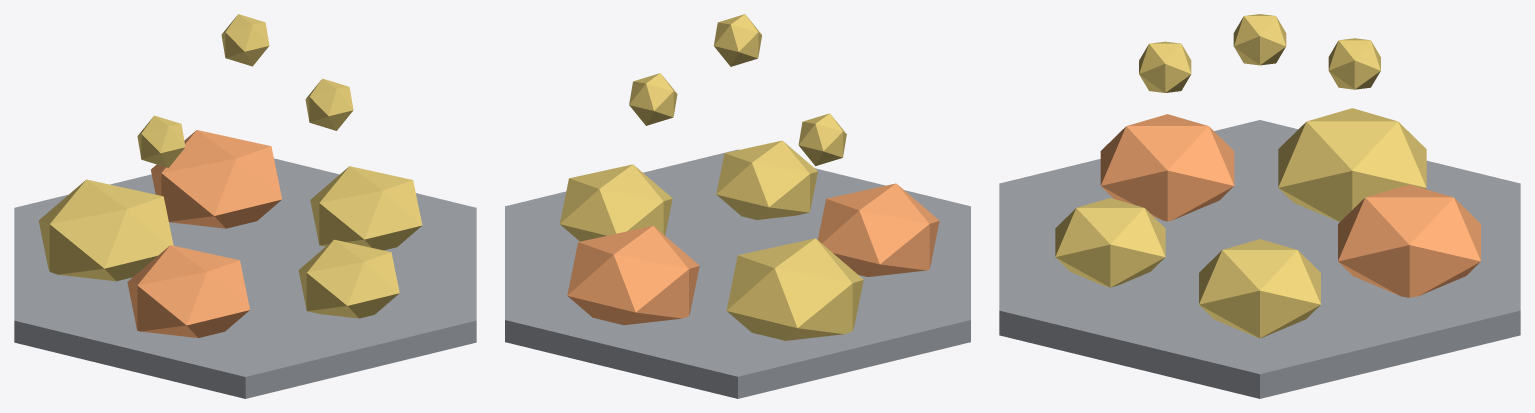
The model's file is animprop_campfire_ember_04.glb.
3 views of the same model, side by side, from view 1: azimuth 30°, elevation 25°; view 2: azimuth 150°, elevation 25°; view 3: azimuth 270°, elevation 25° (orthographic). The views are drawn at different scales.
Parts seen in each view (by area): view 1: animprop; view 2: animprop; view 3: animprop.
Boxes of the visible parts, bbox=[...] form: animprop: bbox=[14, 14, 476, 398]; animprop: bbox=[505, 14, 970, 398]; animprop: bbox=[999, 14, 1520, 398].
Size of the model in its own units: 0.88 by 0.411 by 0.7621.
